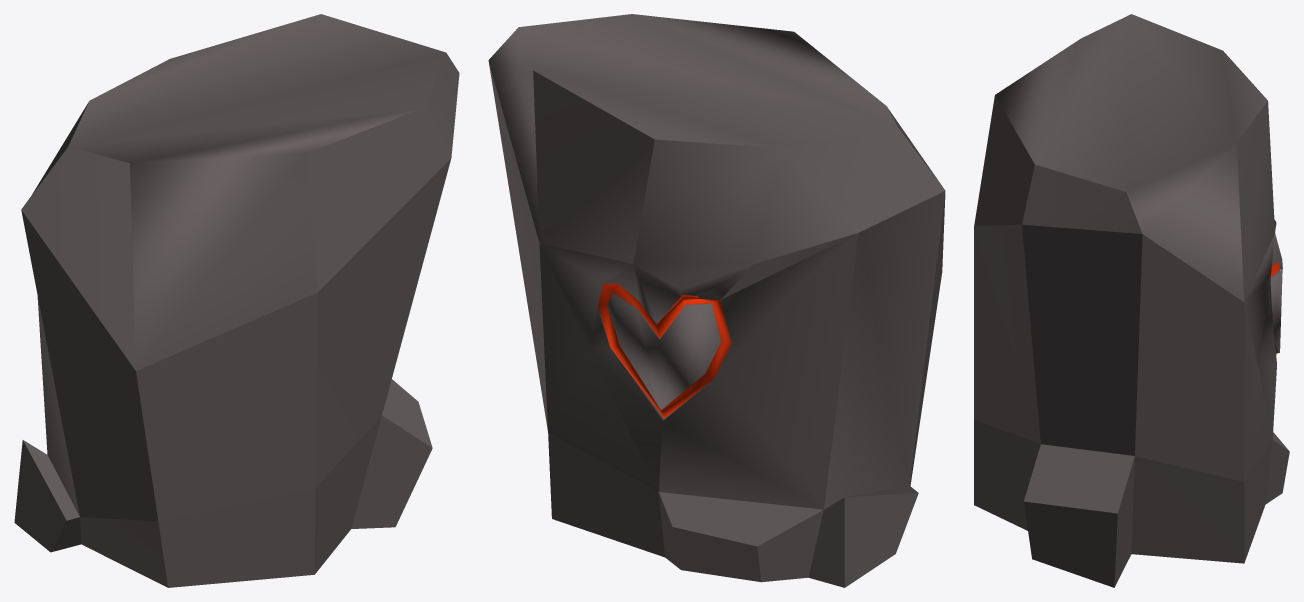
Rendered from HeartRock.fbx.
3 renders of one model, left to right at view 1: azimuth 30°, elevation 25°; view 2: azimuth 150°, elevation 25°; view 3: azimuth 270°, elevation 25°, orthographic. The views are drawn at different scales.
Visible parts, largest first — view 1: Stone012; view 2: Stone012; view 3: Stone012.
Part boxes in pixels (<box>): Stone012: <box>14,14,459,587</box>; Stone012: <box>488,14,945,587</box>; Stone012: <box>974,14,1289,587</box>.
Bounding box in the file's own units: 196 × 183 × 121.
